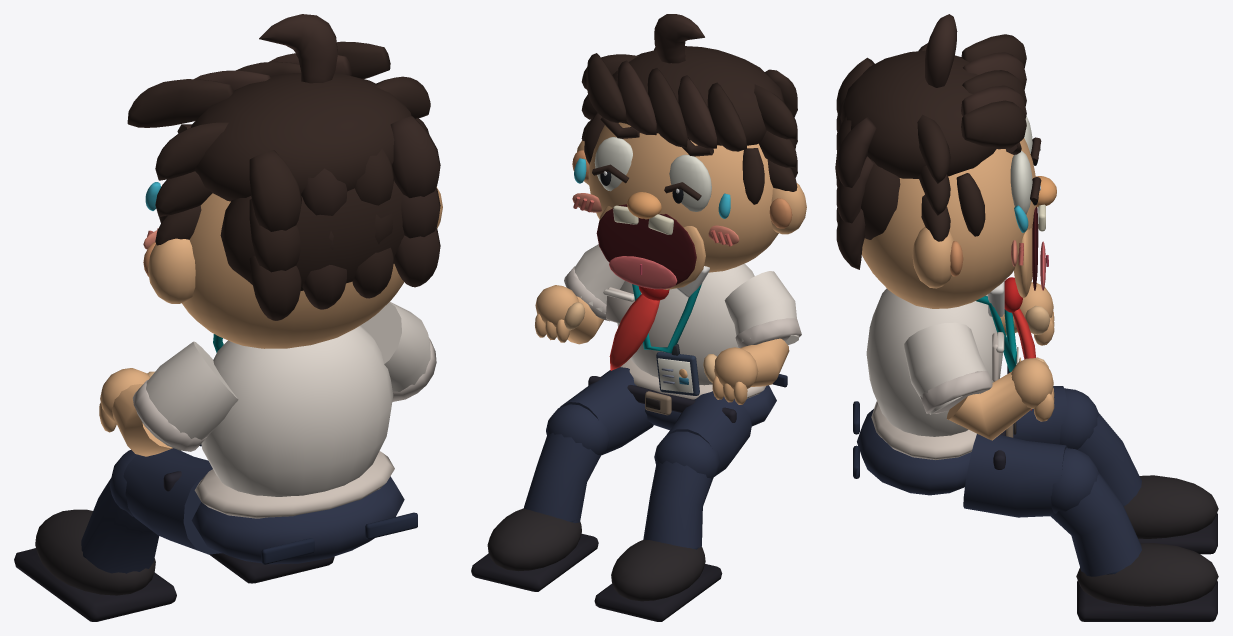
File: employee.glb
3 views of the same model, side by side, from view 1: azimuth 30°, elevation 25°; view 2: azimuth 150°, elevation 25°; view 3: azimuth 270°, elevation 25° (orthographic). The views are drawn at different scales.
Parts seen in each view (by area): view 1: Head_Geometry, Employee_Geometry, LegLeft_Geometry, ArmLeft_Geometry, ArmRight_Geometry, LegRight_Geometry; view 2: Head_Geometry, LegRight_Geometry, LegLeft_Geometry, Employee_Geometry, ArmLeft_Geometry, Mouth_Geometry, ArmRight_Geometry, EyesOpen_Geometry, Tie_Geometry, Cheeks_Geometry, Brows_Geometry, EyesHappy_Geometry (+1 smaller); view 3: Head_Geometry, LegRight_Geometry, Employee_Geometry, LegLeft_Geometry, ArmRight_Geometry, Mouth_Geometry, ArmLeft_Geometry, EyesOpen_Geometry, Tie_Geometry.
Part boxes in pixels (x1,y1,x2,y2): Head_Geometry: (127,14,442,348); Employee_Geometry: (163,325,417,564); LegLeft_Geometry: (14,448,221,621); ArmLeft_Geometry: (99,341,238,456); ArmRight_Geometry: (360,302,436,401); LegRight_Geometry: (209,553,334,583); Head_Geometry: (572,14,806,272); LegRight_Geometry: (471,367,653,591); LegLeft_Geometry: (594,391,751,621); Employee_Geometry: (588,263,787,430); ArmLeft_Geometry: (703,271,801,404); Mouth_Geometry: (596,204,705,289); ArmRight_Geometry: (535,244,624,344); EyesOpen_Geometry: (594,137,711,211); Tie_Geometry: (609,286,669,370); Cheeks_Geometry: (572,193,739,246); Brows_Geometry: (600,117,713,156); EyesHappy_Geometry: (592,164,701,200); Head_Geometry: (835,14,1056,308); LegRight_Geometry: (963,434,1218,621); Employee_Geometry: (853,281,1021,495); LegLeft_Geometry: (1013,386,1218,554); ArmRight_Geometry: (904,322,1054,440); Mouth_Geometry: (1014,204,1048,297); ArmLeft_Geometry: (1000,282,1054,345); EyesOpen_Geometry: (1010,116,1040,214); Tie_Geometry: (1004,277,1035,410).
Size of the model in its own units: 1.52 by 3.16 by 1.97.
